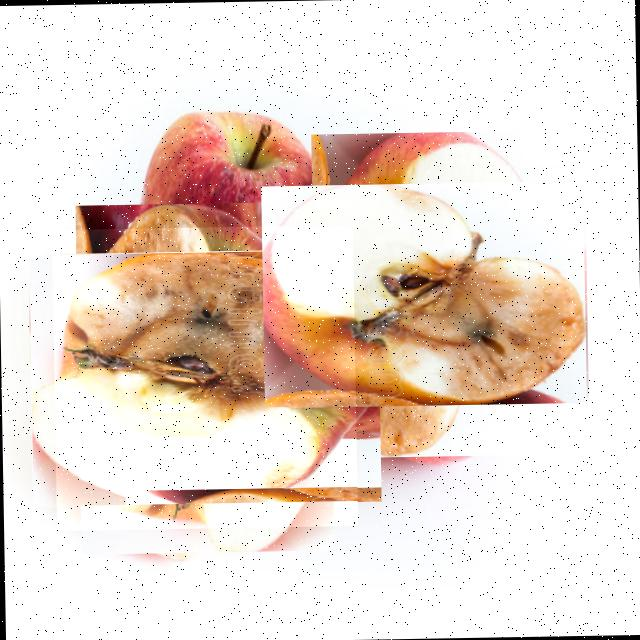Rotten Apple: (50, 225, 358, 532), (284, 156, 564, 434)
